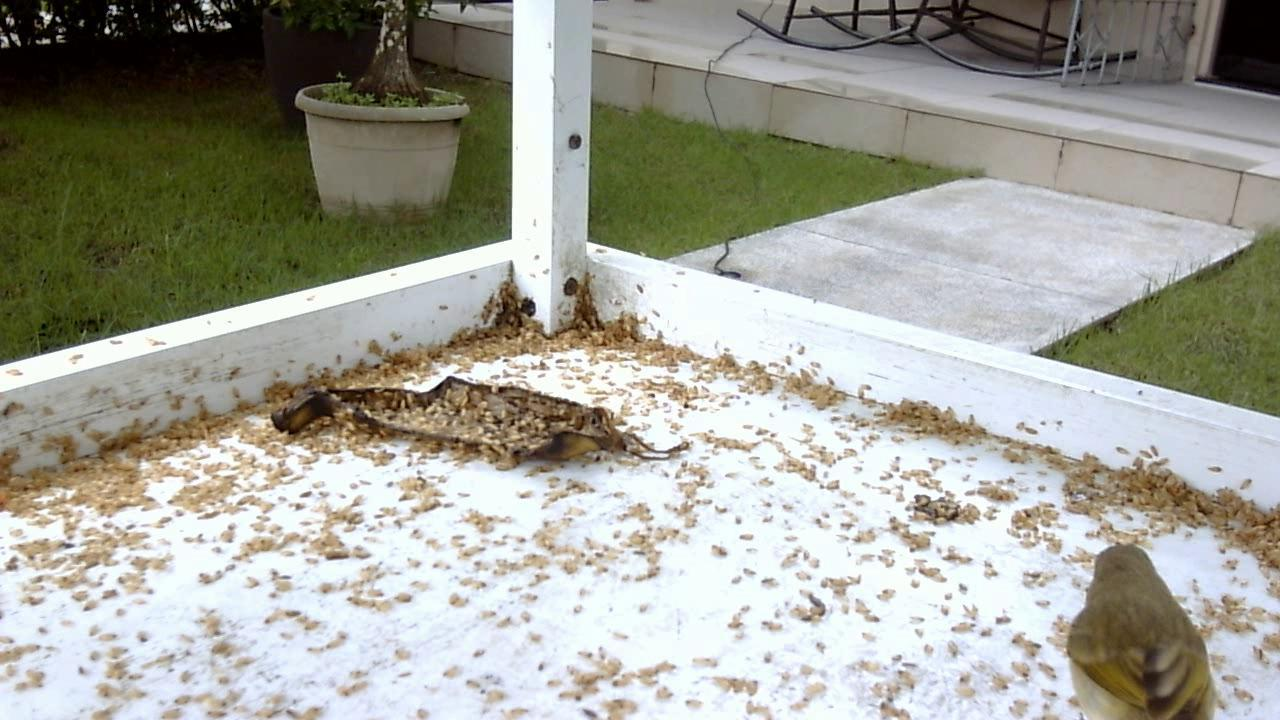canario_do_amazonas: (1054, 540, 1223, 715)
